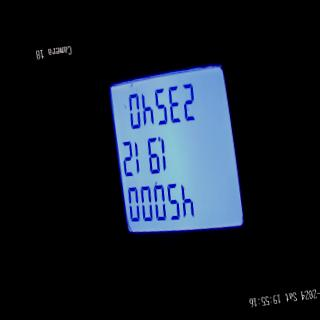screen: (100, 54, 251, 256)
